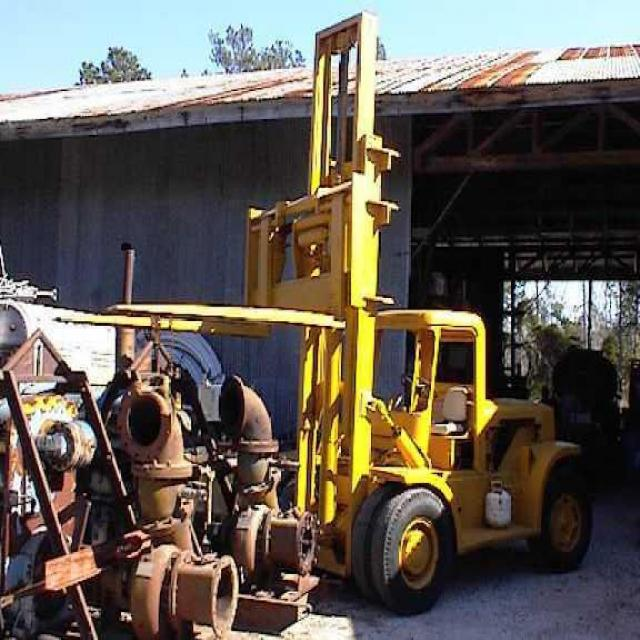Chariot elevateur: (49, 6, 595, 612)
